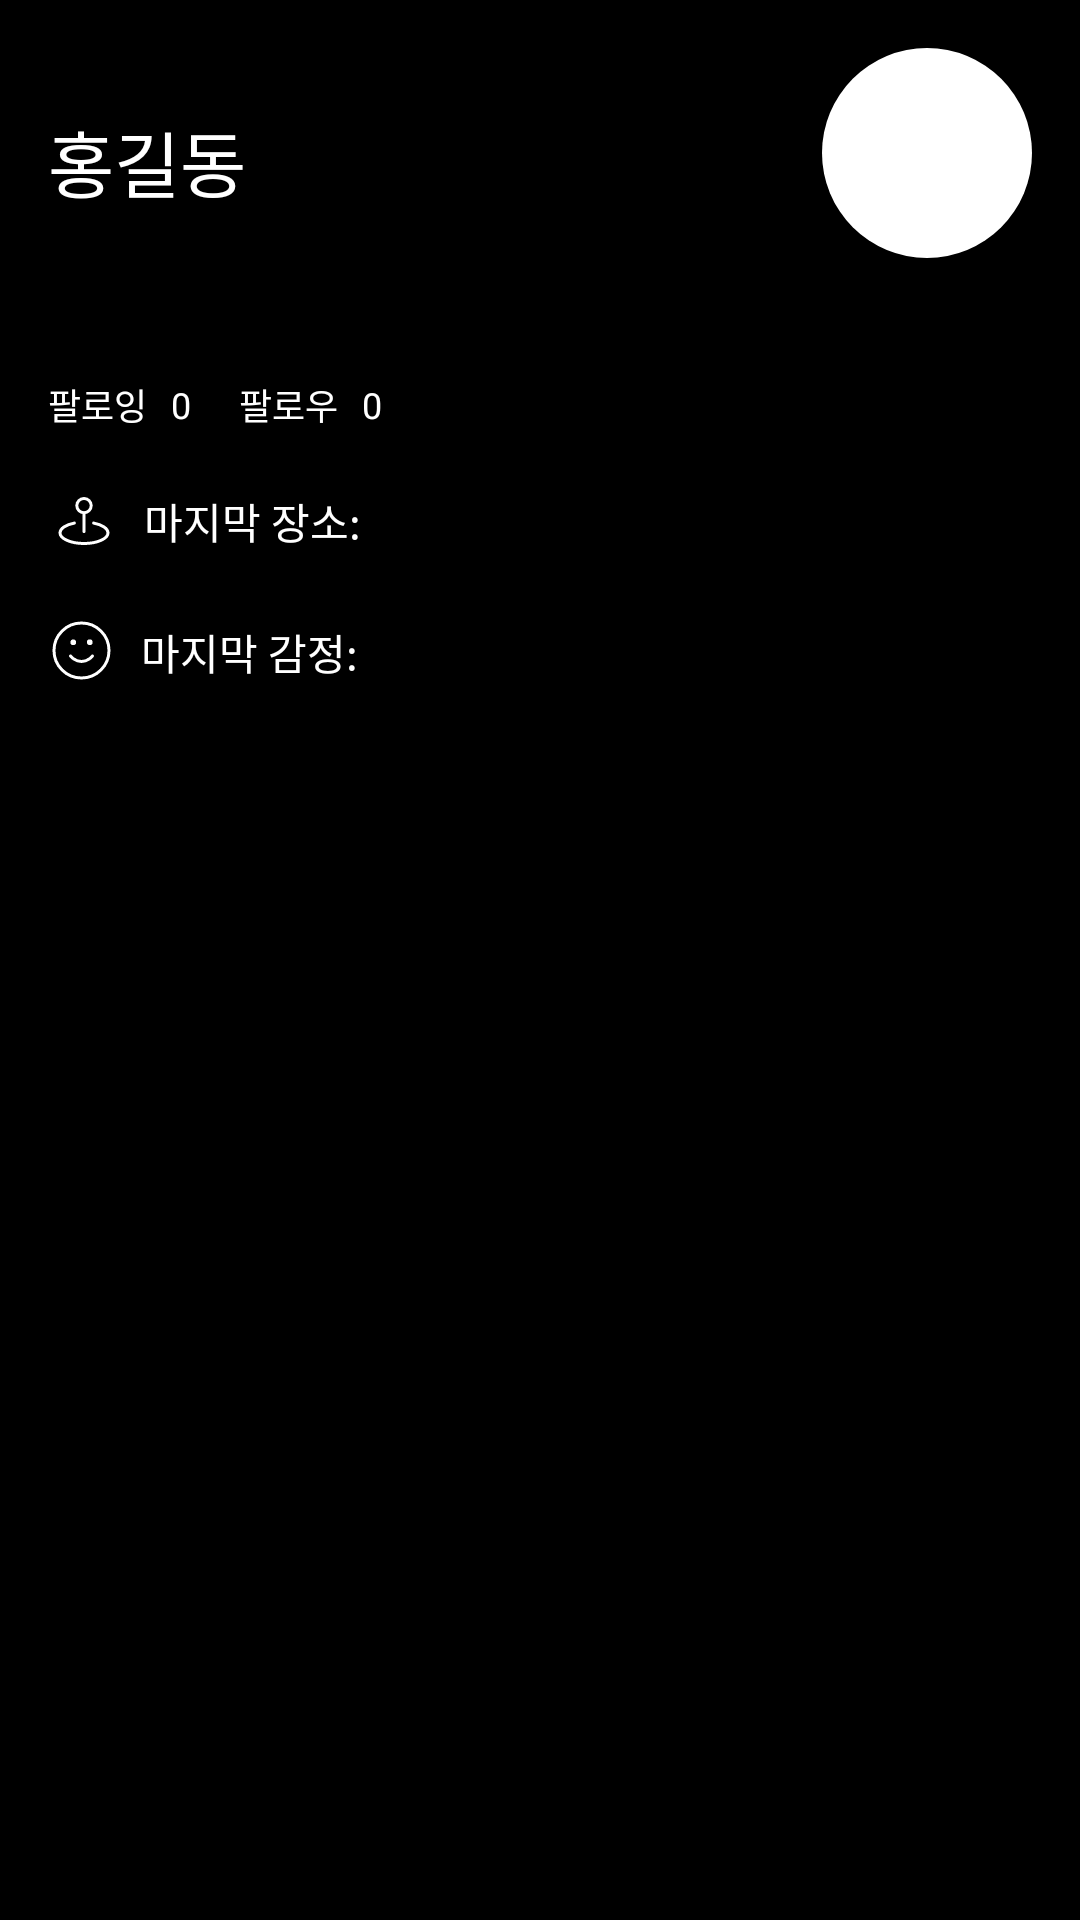

Screen size 1080 × 1920. Icon name, then its center in pixels as (x,y):
face: (81,650)
marker pin: (84,521)
